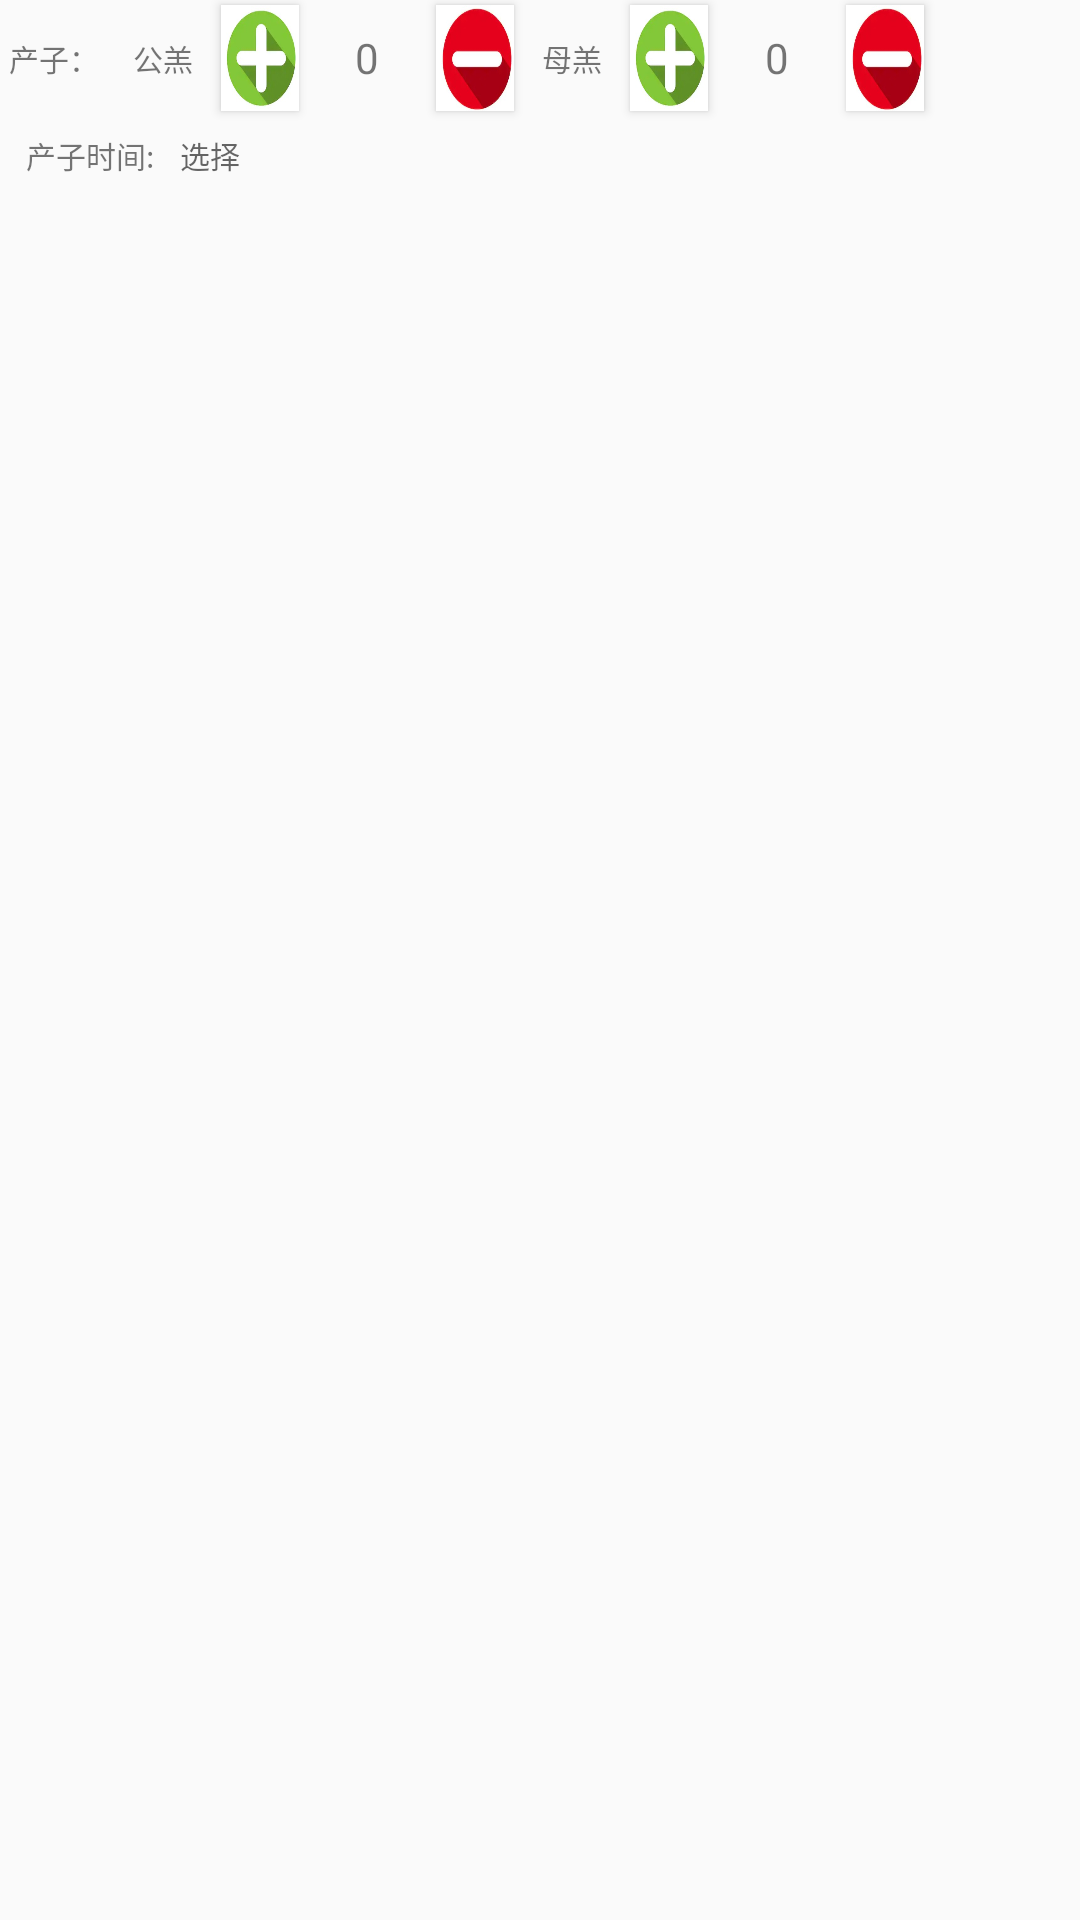

Icons on this 1080 × 1920 Android screen, each with its box as (x1, y1, x2, y2):
add: (227, 10, 296, 106), (636, 10, 705, 106)
